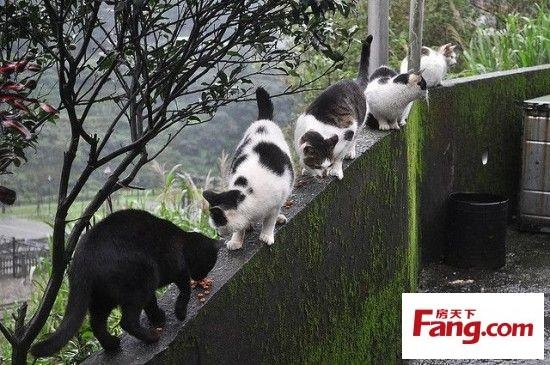cat: (30, 208, 220, 358), (202, 87, 296, 252), (293, 35, 374, 181), (364, 64, 428, 131), (400, 43, 457, 88)
